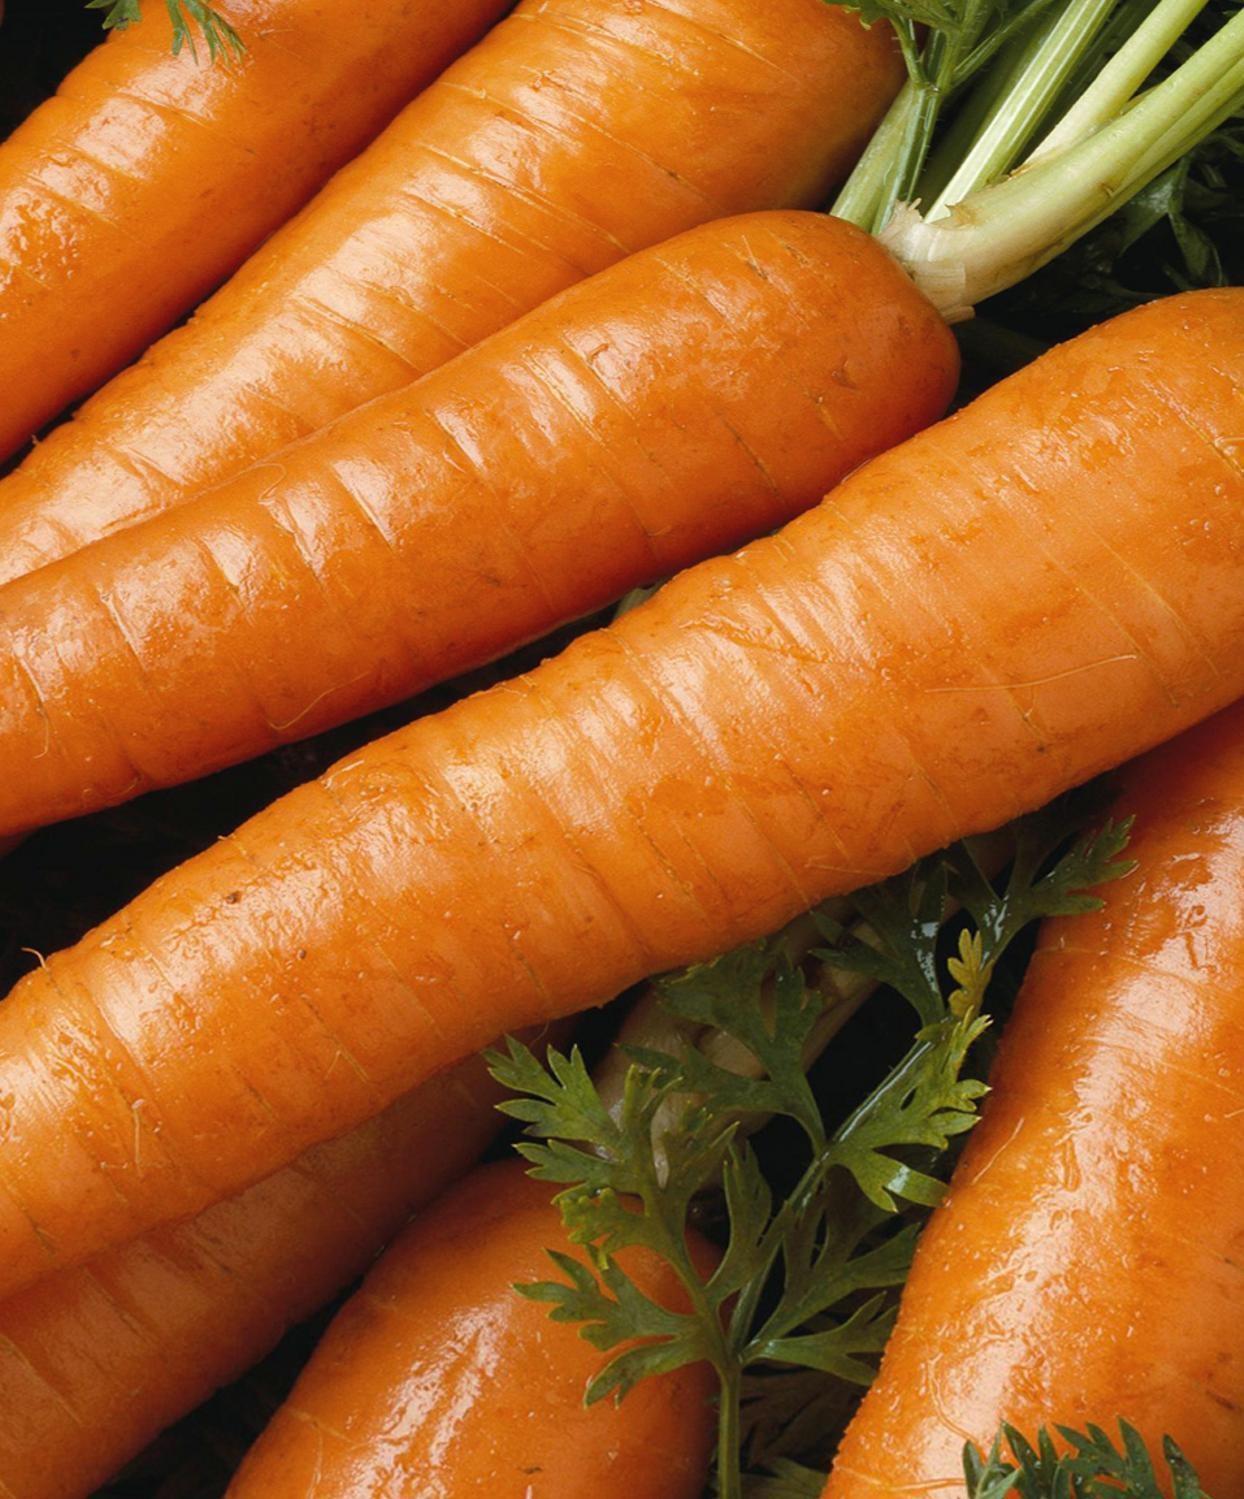carrot: (6, 22, 1215, 1499)
